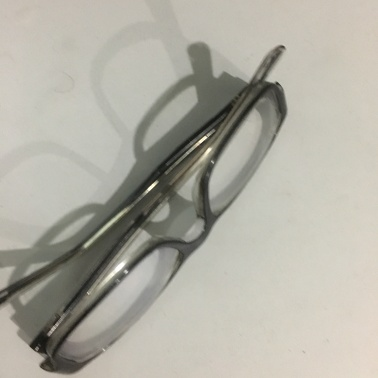glasses: (47, 49, 310, 378)
